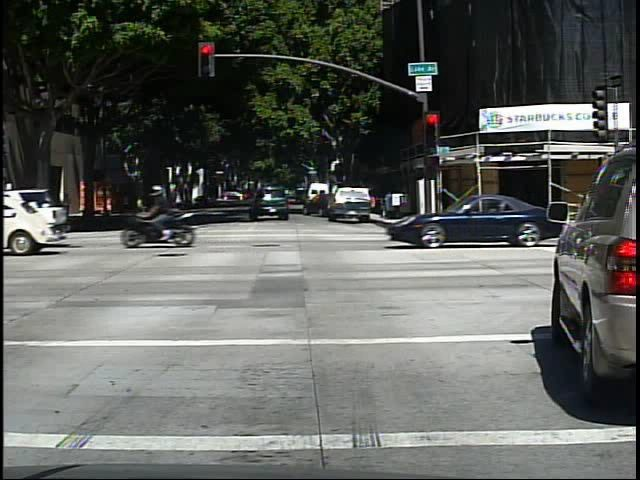person: (158, 181, 197, 242), (63, 191, 73, 222)
